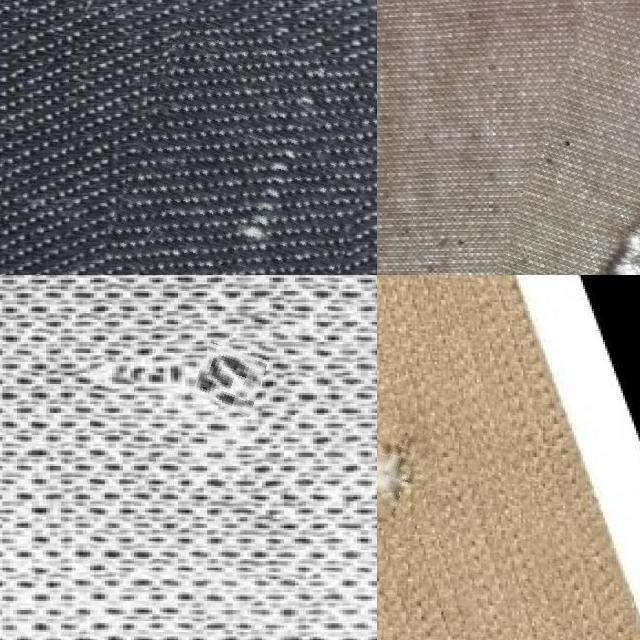other: (377, 400, 436, 528), (194, 346, 262, 413)
stains: (116, 22, 377, 275), (492, 19, 640, 275)
